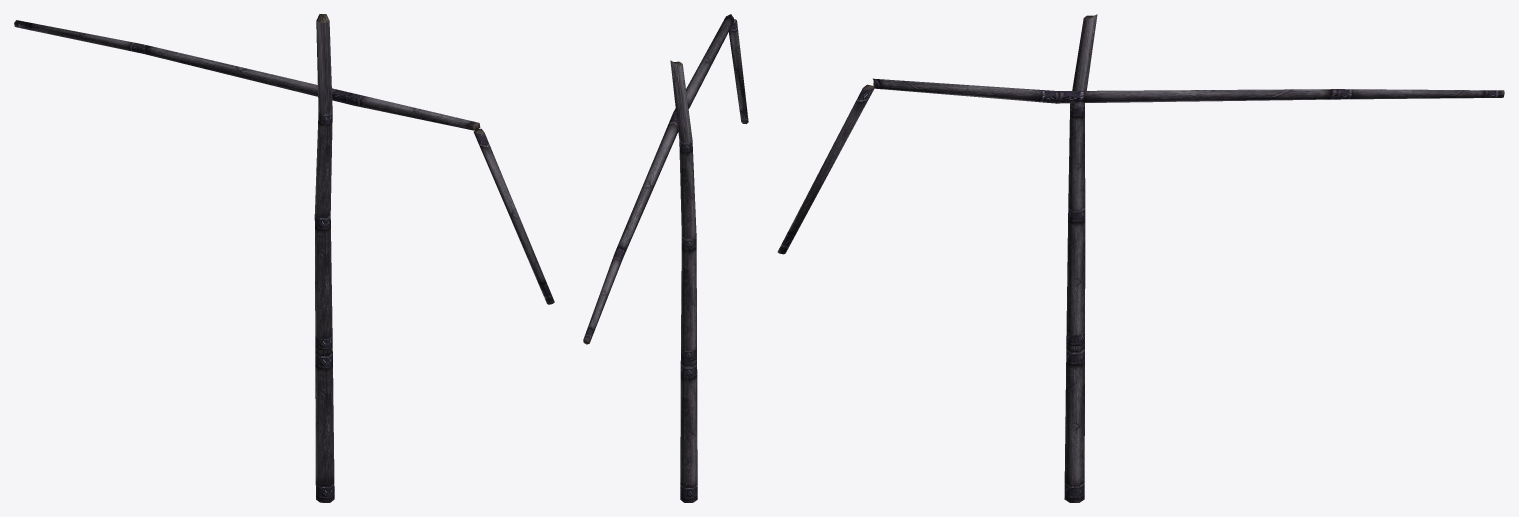
File: Battle05_Ship_06.FBX
3 renders of one model, left to right at view 1: azimuth 30°, elevation 25°; view 2: azimuth 150°, elevation 25°; view 3: azimuth 270°, elevation 25°, orthographic. The views are drawn at different scales.
Visible parts, largest first — view 1: Battle05_Ship_06; view 2: Battle05_Ship_06; view 3: Battle05_Ship_06.
Part boxes in pixels (x1,y1,x2,y2): Battle05_Ship_06: [14, 14, 554, 502]; Battle05_Ship_06: [583, 14, 748, 502]; Battle05_Ship_06: [777, 14, 1504, 502].
Bounding box in the file's own units: 30.85 × 74.63 × 101.
